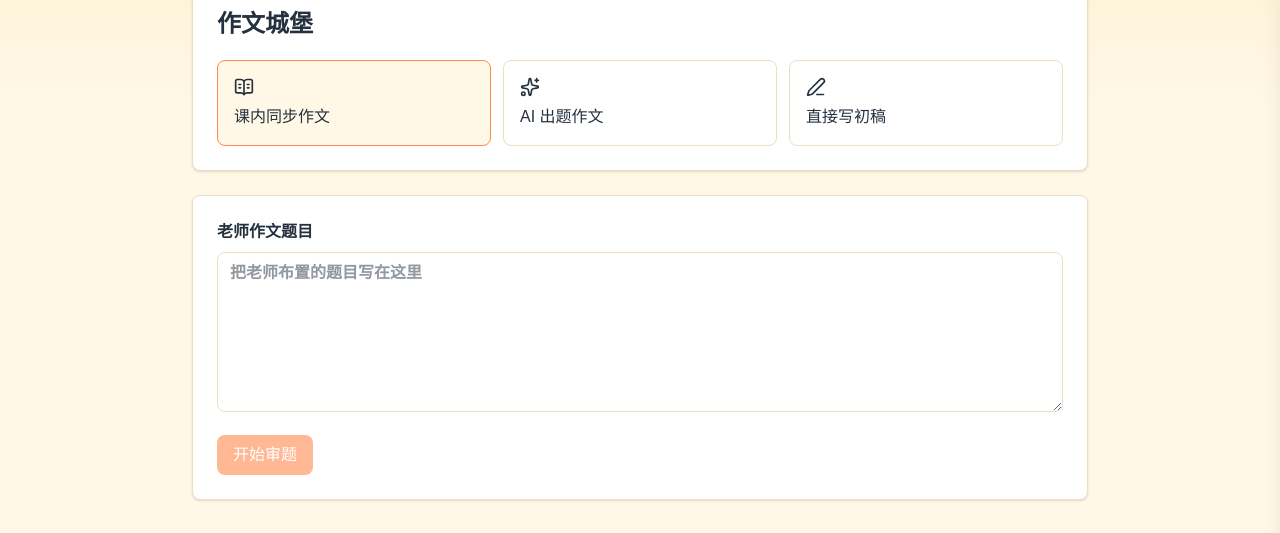
Test: writing castle ai topic mode generates three ideas and selects one
Click the button "AI 出题作文" at {"x": 562, "y": 116}, box [503, 60, 777, 146]
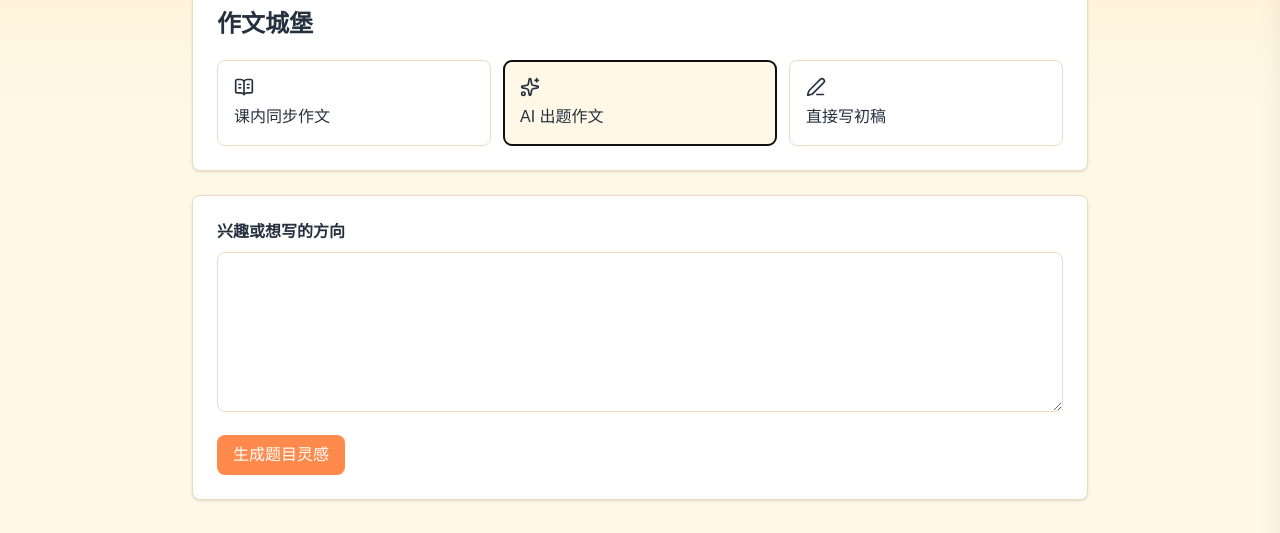
Type "足球" into the text box labelled "兴趣或想写的方向" at {"x": 640, "y": 332}, box [217, 252, 1063, 412]
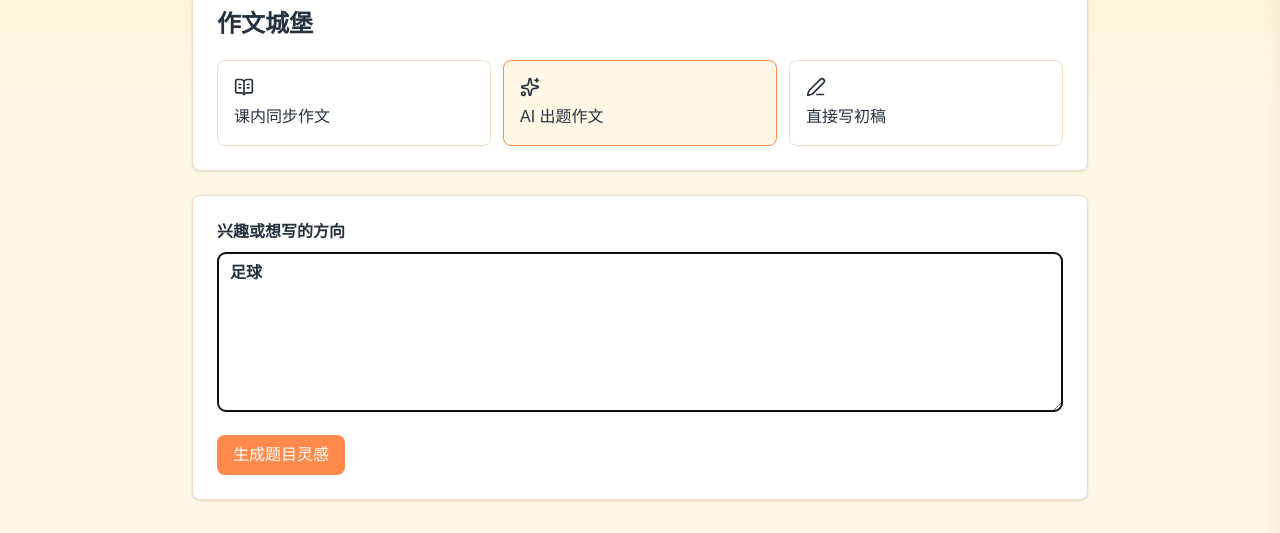
Click the button "生成题目灵感" at {"x": 281, "y": 455}, box [217, 435, 345, 475]
(page scrolled)
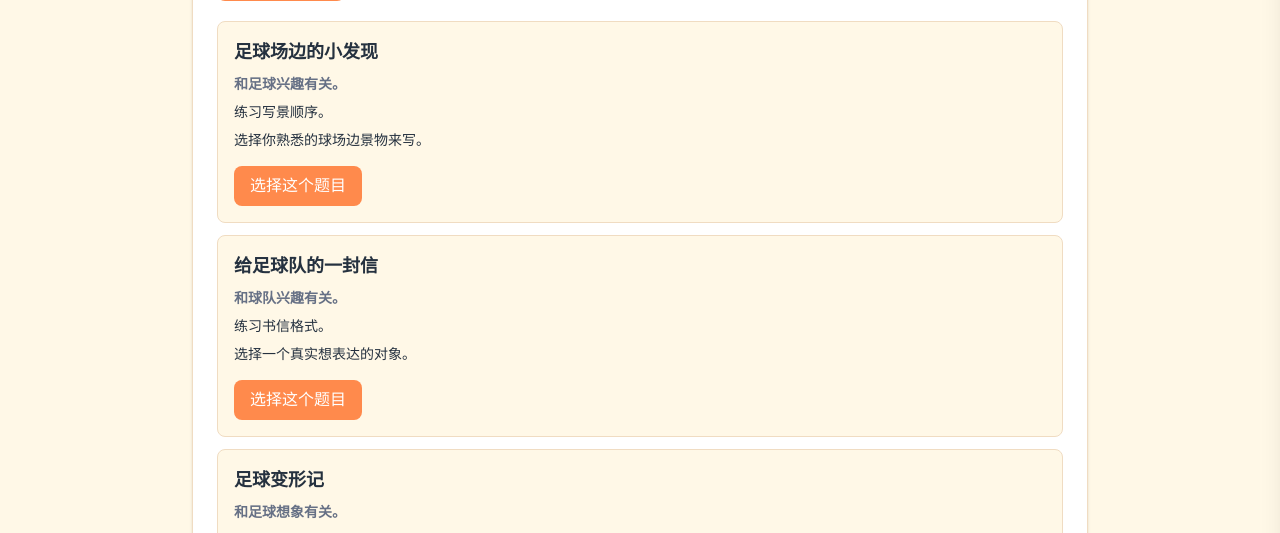
Now the heading "给足球队的一封信" is shown, box [234, 256, 378, 276]
Now the heading "足球变形记" is shown, box [234, 470, 324, 490]
Now the text "足球场边的小发现" is shown, box [234, 42, 378, 62]
Click the button "选择这个题目" below "选择你熟悉的球场边景物来写。" at {"x": 298, "y": 186}, box [234, 166, 362, 206]
(page scrolled)
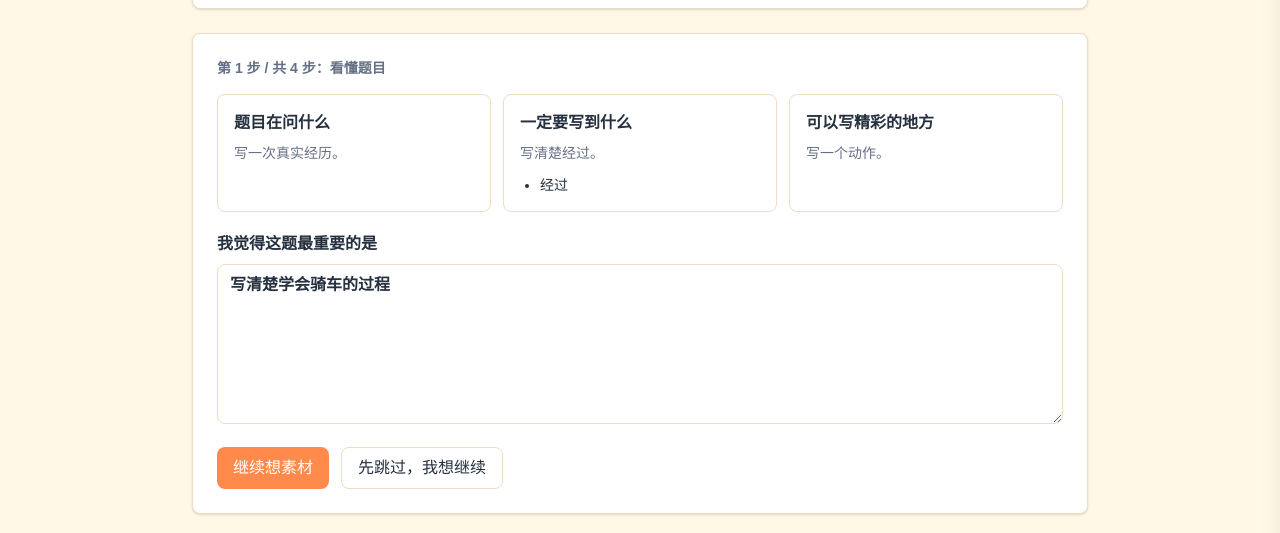
Now the text "第 1 步 / 共 4 步：看懂题目" is shown, box [217, 60, 386, 76]
